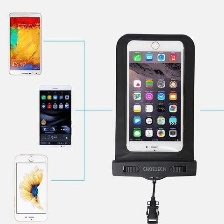phone: (120, 36, 186, 157), (34, 81, 77, 153), (12, 152, 50, 223), (5, 9, 44, 78)
